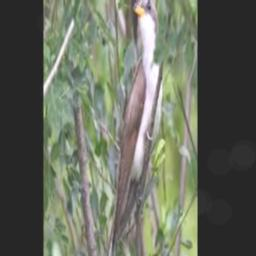Cuckoo: (104, 0, 161, 256)
